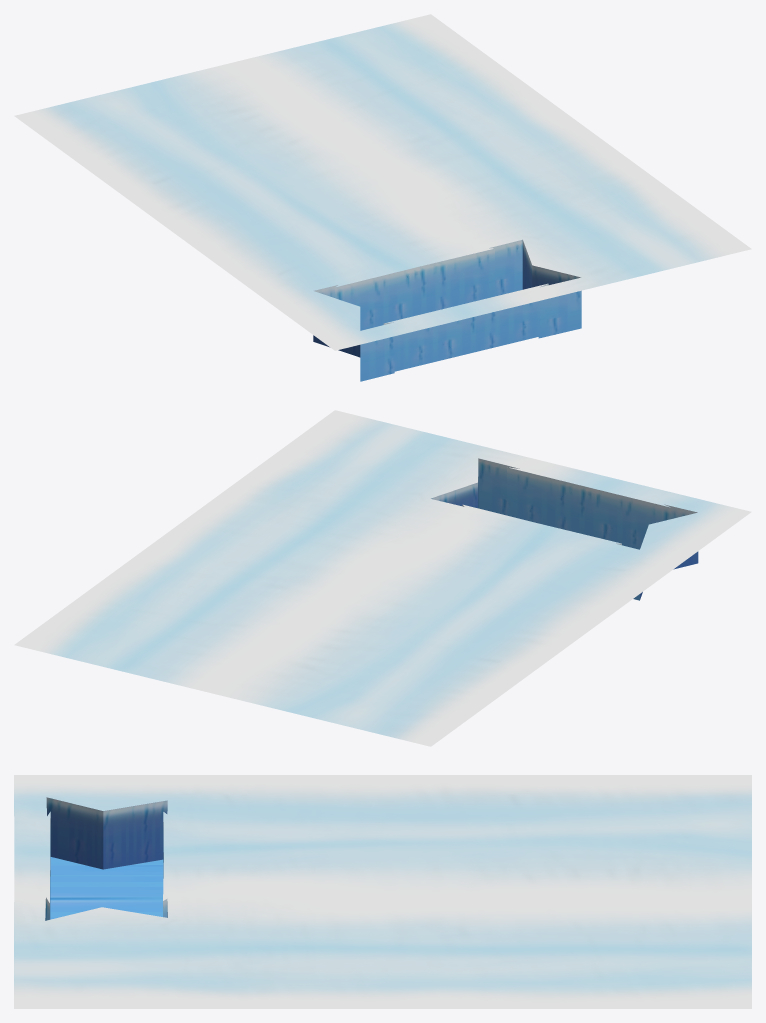
The model's file is Hole_L_Size_09.FBX.
3 renders of one model, top to bottom at view 1: azimuth 30°, elevation 25°; view 2: azimuth 150°, elevation 25°; view 3: azimuth 270°, elevation 25°, orthographic. The views are drawn at different scales.
Parts seen in each view (by area): view 1: Object116; view 2: Object116; view 3: Object116.
Part boxes in pixels (x1,y1,x2,y2): Object116: (14, 14, 751, 381); Object116: (14, 410, 751, 746); Object116: (14, 775, 751, 1008).
Bounding box in the file's own units: 600 × 70 × 800.
